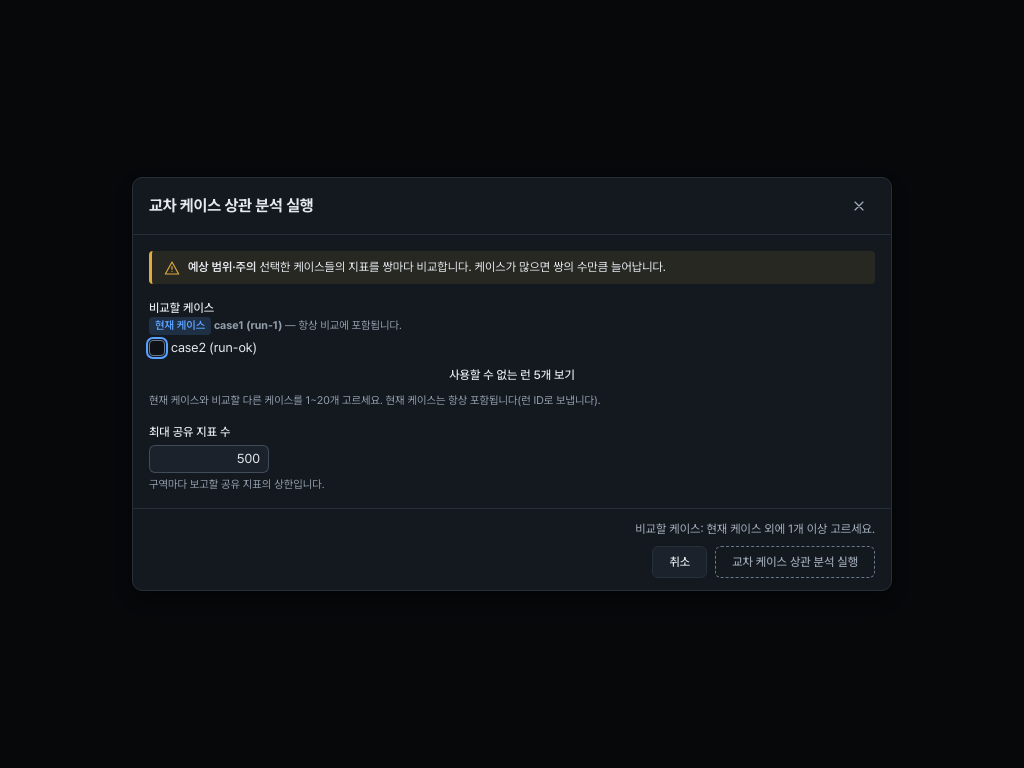
Test case: 8. cross-case dialog groups the runs › eligible first, ineligible folded behind a disclosure, the current case marked
Expected: the element with test id "cross-case-current" reads "현재 케이스 case1 (run-1) — 항상 비교에 포함됩니다.", [149,317,402,335]
Expected: the number of checkboxes is 1, [149,340,165,356]
Click the button "사용할 수 없는 런 5개 보기".
click(512, 375)  # box [149,361,875,389]
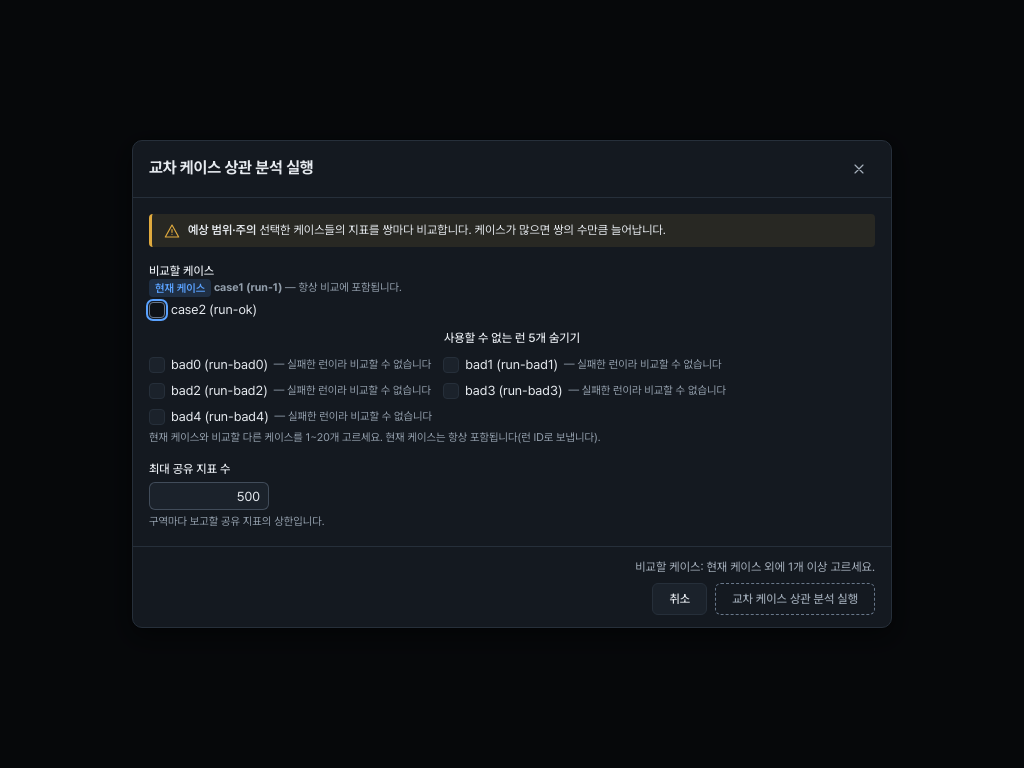
Expected: the element with test id "cross-case-ineligible" shows "실패한 런이라 비교할 수 없습니다", [287,358,431,371]
